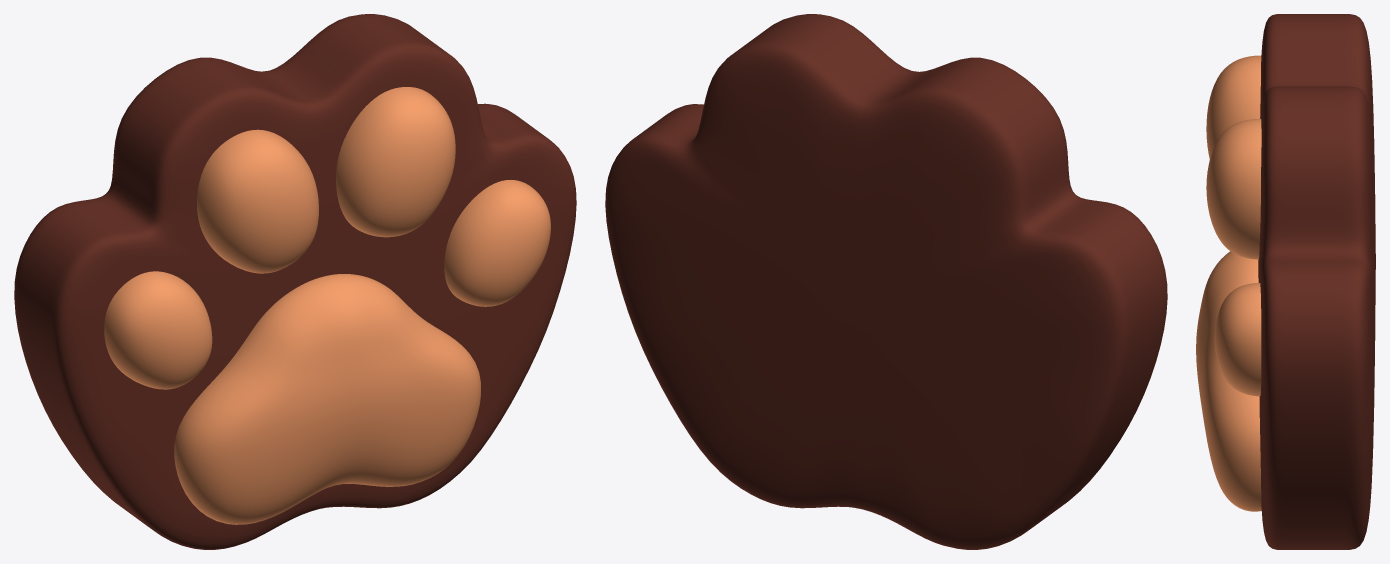
File: Paws.fbx
3 views of the same model, side by side, from view 1: azimuth 30°, elevation 25°; view 2: azimuth 150°, elevation 25°; view 3: azimuth 270°, elevation 25° (orthographic). The views are drawn at different scales.
Visible parts, largest first — view 1: Frame, Paws; view 2: Frame; view 3: Frame, Paws.
Part boxes in pixels (x1,y1,x2,y2): Frame: [14, 14, 576, 549]; Paws: [104, 87, 550, 524]; Frame: [605, 14, 1167, 549]; Frame: [1258, 14, 1375, 549]; Paws: [1196, 55, 1261, 511].
Size of the model in its own units: 235 by 199 by 73.1.
